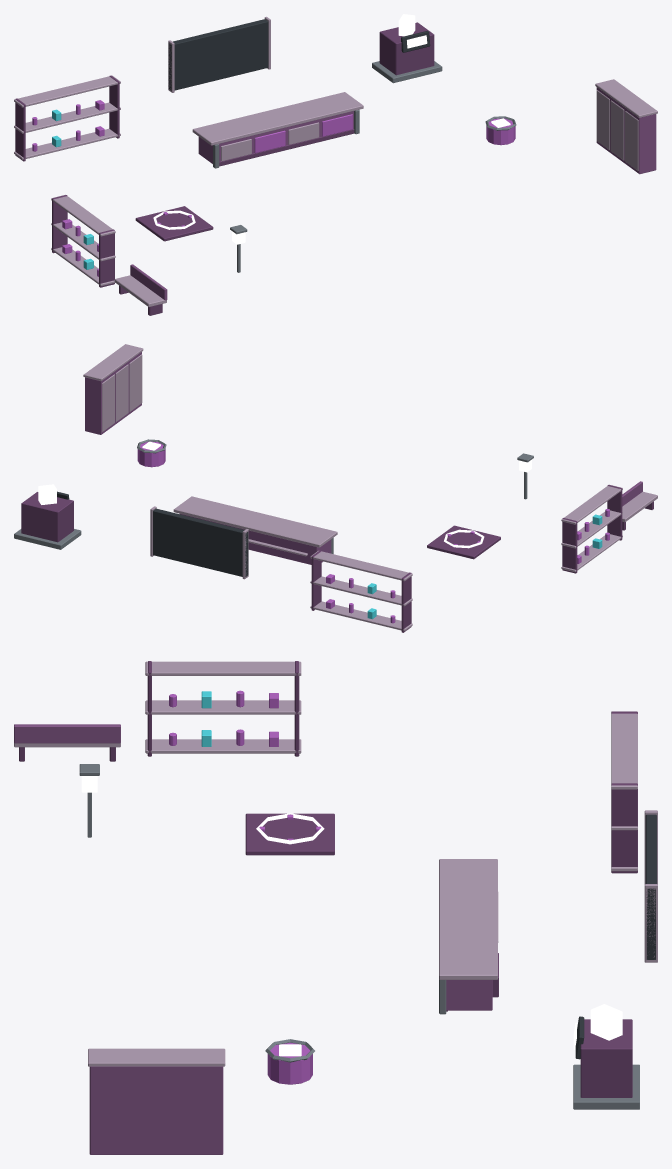
Rendered from moonstall_ward_shop.lod1.glb.
3 views of the same model, one above another, from view 1: azimuth 30°, elevation 25°; view 2: azimuth 150°, elevation 25°; view 3: azimuth 270°, elevation 25° (orthographic). The views are drawn at different scales.
Bounding box in the file's own units: 21.79 × 2.76 × 14.45.
